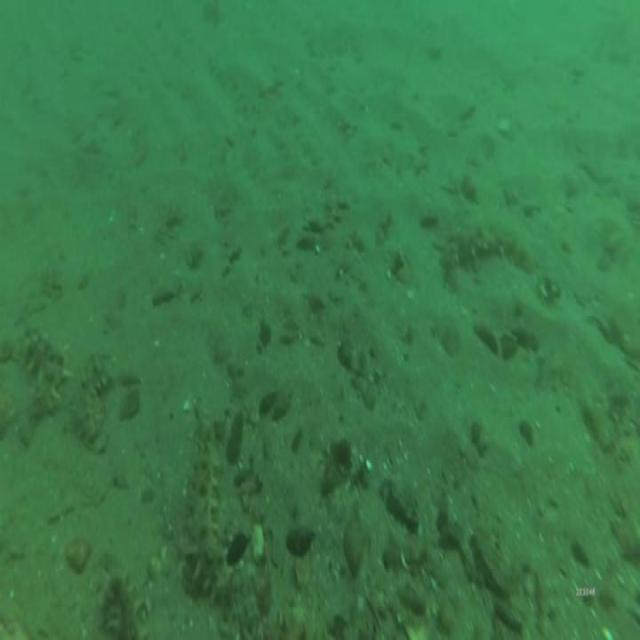holothurian: (177, 411, 233, 589), (440, 215, 539, 281), (18, 321, 72, 428), (76, 352, 113, 444)
